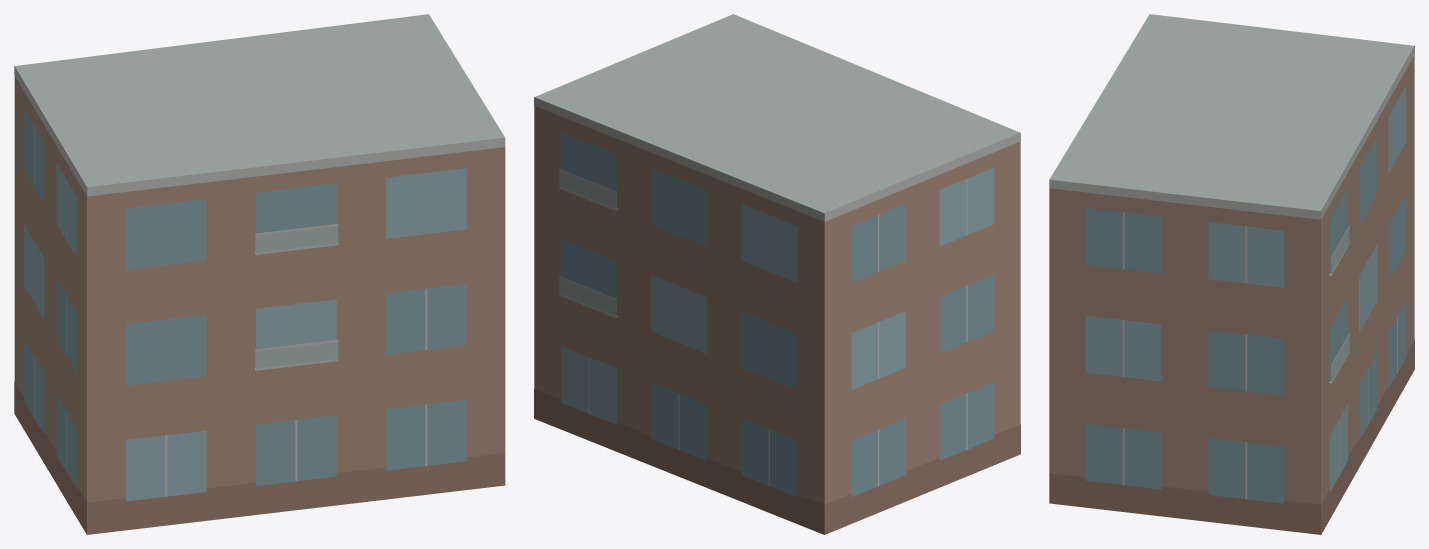
Rendered from survey-upis-32670267.glb.
3 renders of one model, left to right at view 1: azimuth 30°, elevation 25°; view 2: azimuth 150°, elevation 25°; view 3: azimuth 270°, elevation 25°, orthographic. The views are drawn at different scales.
Visible parts, largest first — view 1: survey-upis-32670267.tmp; view 2: survey-upis-32670267.tmp; view 3: survey-upis-32670267.tmp.
Part boxes in pixels (x1,y1,x2,y2): survey-upis-32670267.tmp: (14, 14, 505, 534); survey-upis-32670267.tmp: (534, 14, 1020, 534); survey-upis-32670267.tmp: (1049, 14, 1414, 534).
Size of the model in its own units: 11.96 by 9.15 by 9.37.
